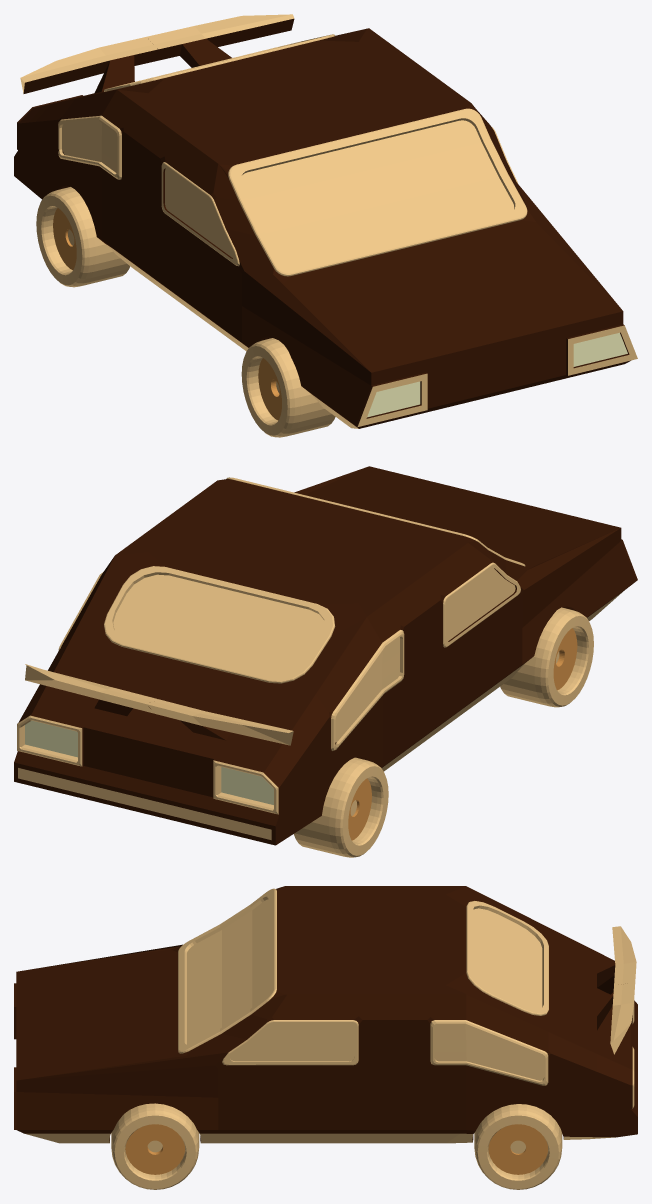
Rendered from Car 3.fbx.
3 renders of one model, top to bottom at view 1: azimuth 30°, elevation 25°; view 2: azimuth 150°, elevation 25°; view 3: azimuth 270°, elevation 25°, orthographic. The views are drawn at different scales.
Parts seen in each view (by area): view 1: Cylinder.001; view 2: Cylinder.001; view 3: Cylinder.001.
Part boxes in pixels (x1=…): Cylinder.001: x1=14, y1=14, x2=637, y2=437; Cylinder.001: x1=14, y1=466, x2=637, y2=857; Cylinder.001: x1=14, y1=886, x2=637, y2=1189.
Bounding box in the file's own units: 2.19 × 1.45 × 4.36.
